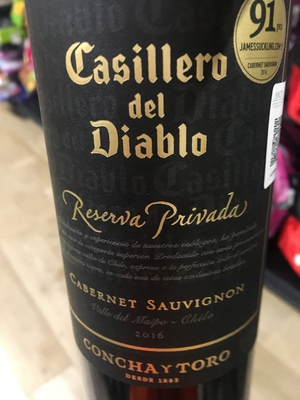casillero del diablo reserva privada cabernet sauvignon: (25, 2, 288, 400)
